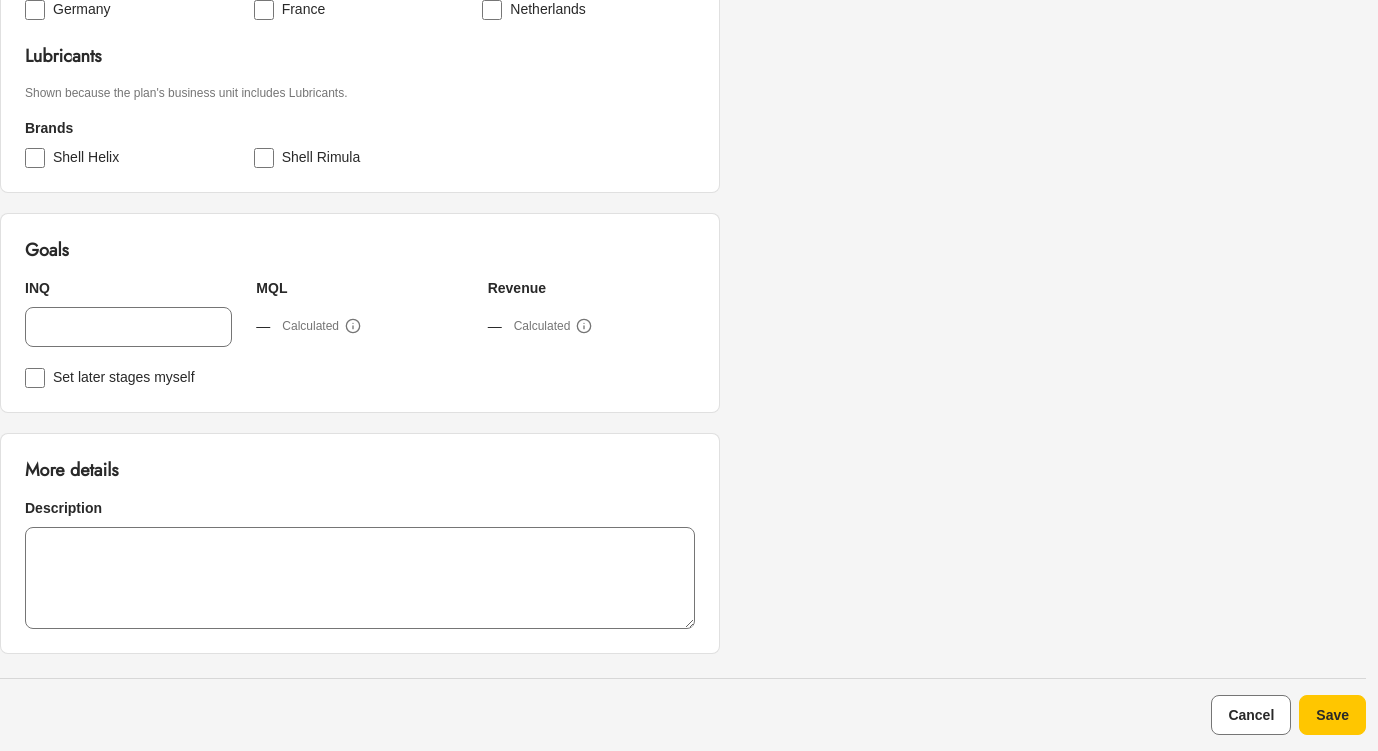
Scenario: ActivityFormPage, Shell attributes and goals (feature 006, US3) › sends the values of hidden groups back unchanged (FR-015)
(page scrolled)
Step 1. Type "Shot in Lisbon" into the text box labelled "Description" → (360, 578), box top-left (25, 527), bottom-right (695, 629)
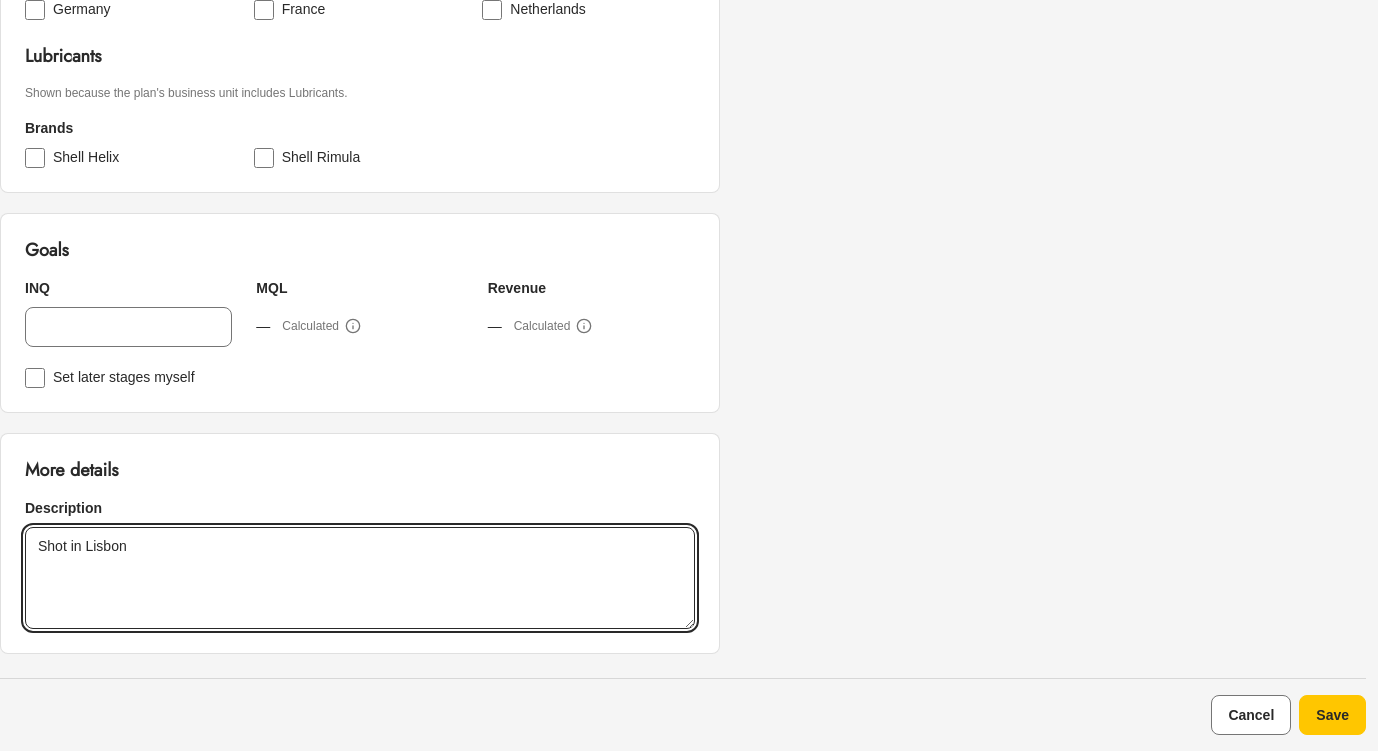
Step 2. Click the button "Save" → click(1333, 715), box top-left (1299, 695), bottom-right (1366, 735)
(page scrolled)
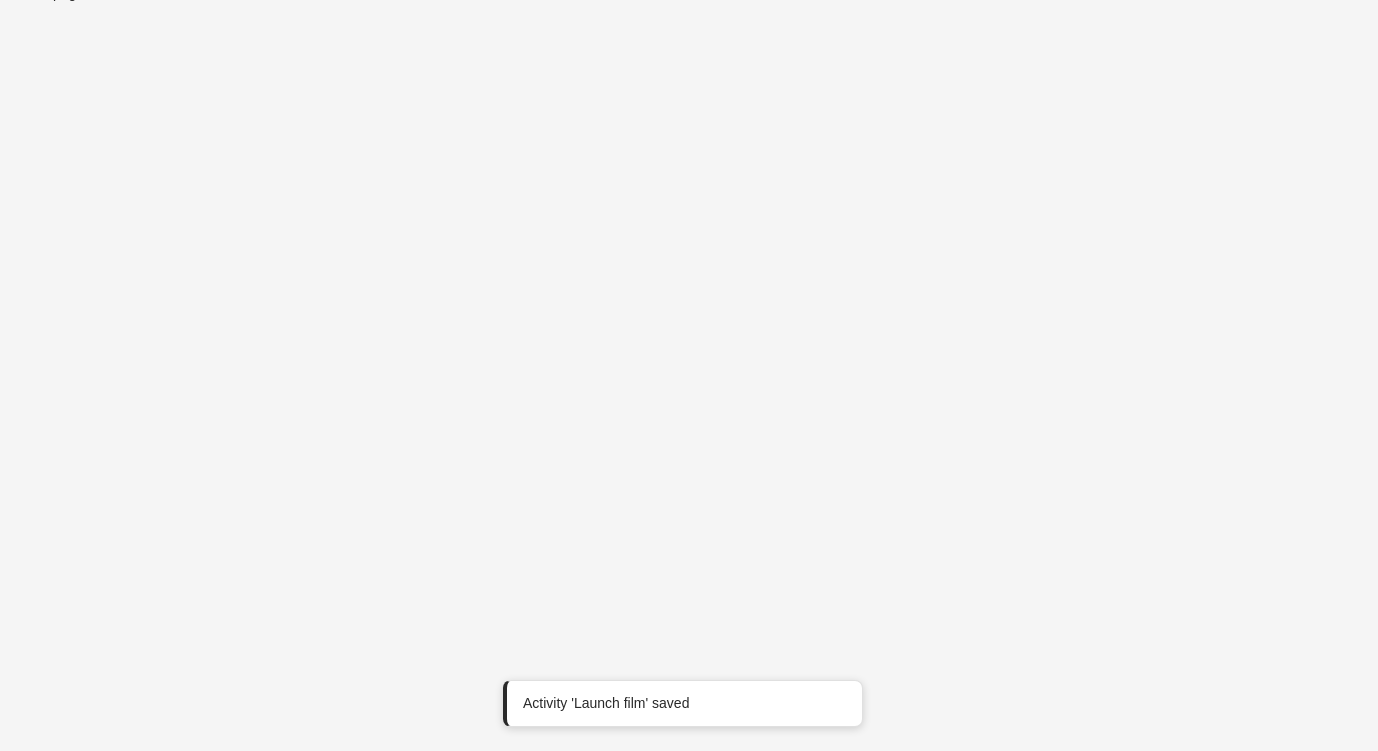
Check: the text "Activity 'Launch film' saved" is shown, box top-left (523, 695), bottom-right (689, 711)
